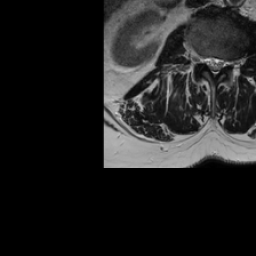CCS_normal: (211, 52, 217, 80)
LFS_stenosis: (223, 54, 231, 72)
LLS_normal: (217, 53, 223, 74)
RFS_normal: (197, 48, 204, 69)
RLS_normal: (204, 50, 211, 73)
